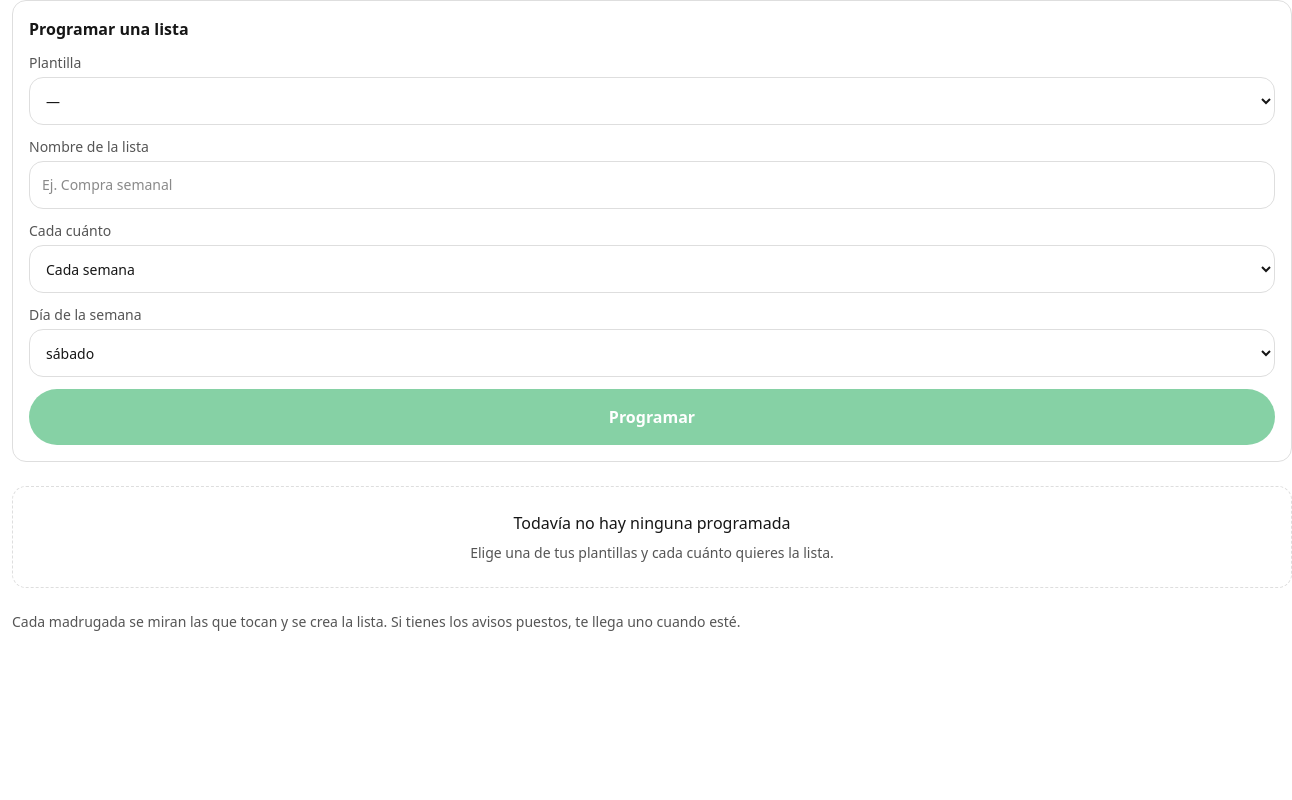
Test: RecurringClient › no deja pasar del día 28
The width and height of the screenshot is (1292, 800).
Select "Cada mes" in the dropdown labelled "Cada cuánto" at (652, 269), box [29,245,1275,293]
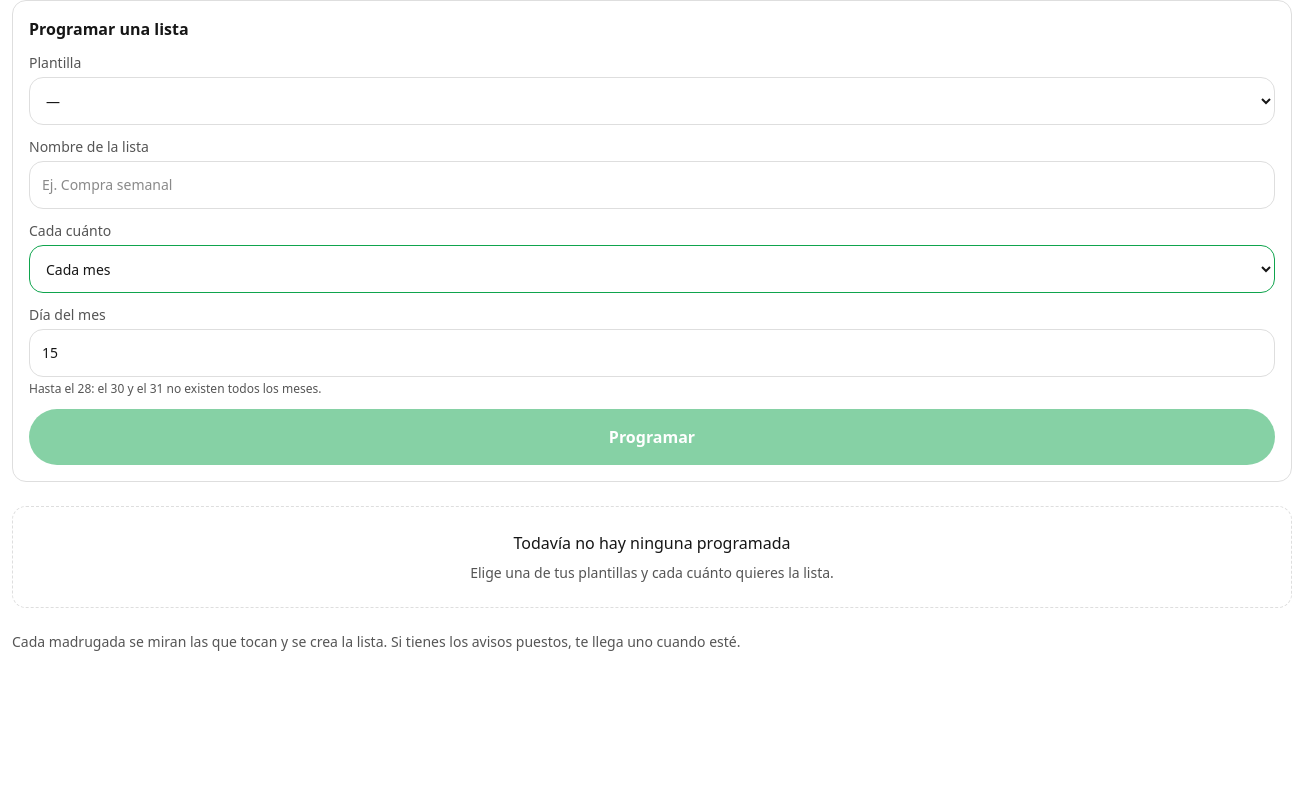
Replace the text in the number field labelled "Día del mes" with "31" at (652, 353), box [29,329,1275,377]
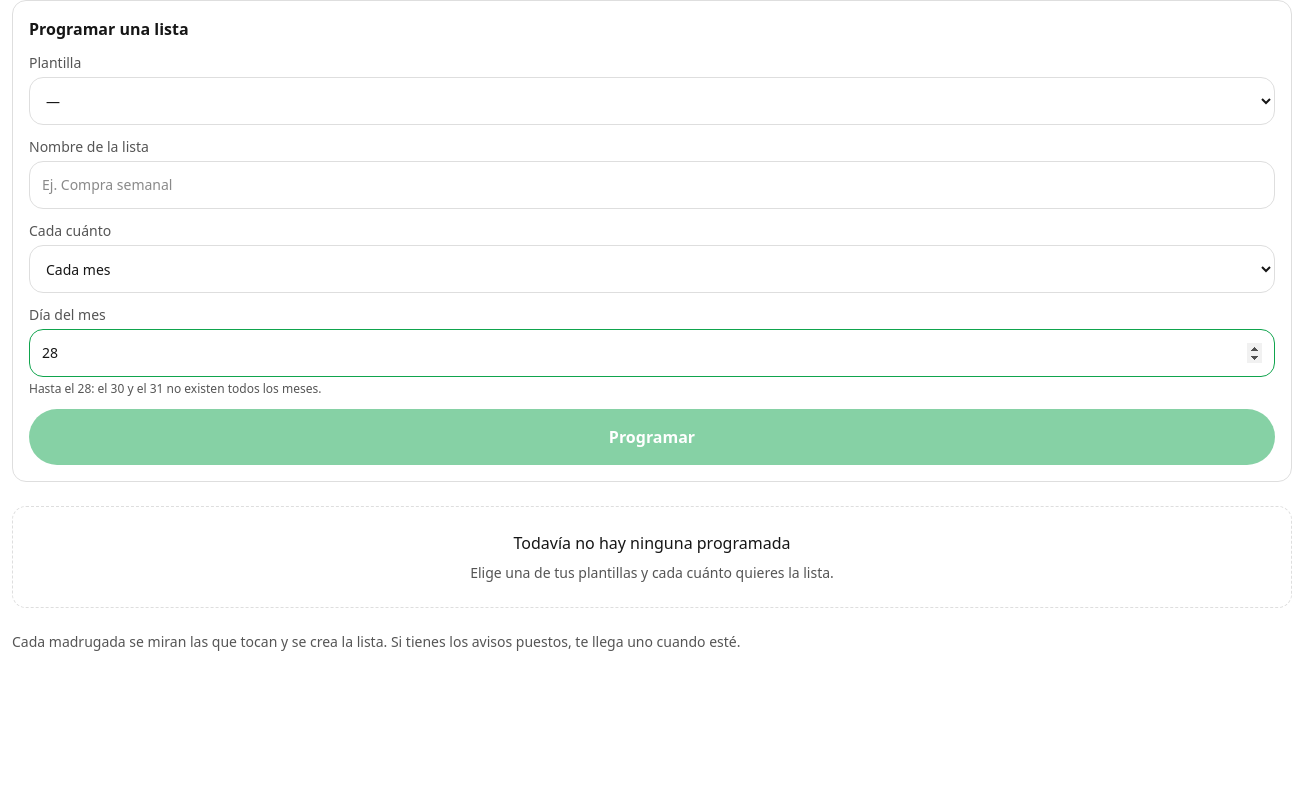
Expected: the number field labelled "Día del mes" holds "28", [29,329,1275,377]
